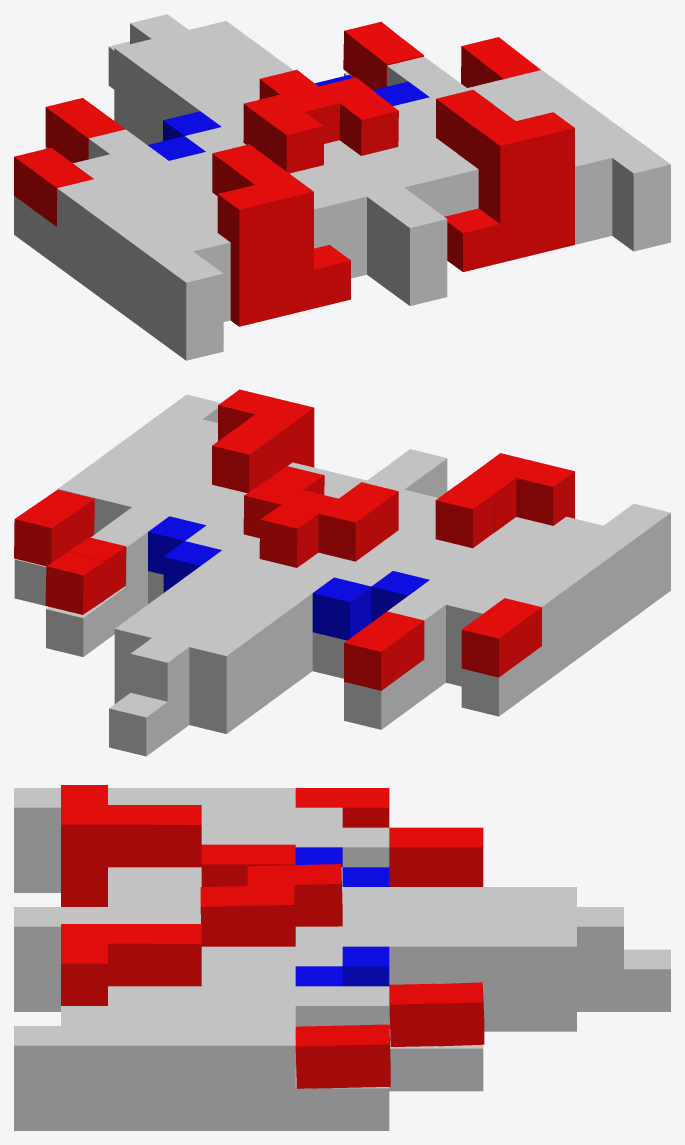
The model's file is Player.fbx.
The picture shows the model from 3 angles, top to bottom: view 1: azimuth 30°, elevation 25°; view 2: azimuth 150°, elevation 25°; view 3: azimuth 270°, elevation 25°; orthographic projection. The views are drawn at different scales.
Parts seen in each view (by area): view 1: Box196, Box219, Box242, Box244, Box178, Box232, Box233, Box129, Box101, Box046, Box123, Box088 (+97 smaller); view 2: Box117, Box246, Box147, Box001, Box244, Box113, Box144, Box238, Box110, Box142, Box240, Box115 (+103 smaller); view 3: Box150, Box115, Box110, Box173, Box174, Box175, Box240, Box246, Box238, Box116, Box146, Box112 (+90 smaller).
Part boxes in pixels (x1,y1,x2,y2): Box196: [388, 203, 447, 266]; Box219: [164, 258, 223, 321]; Box242: [478, 121, 537, 184]; Box244: [217, 185, 276, 248]; Box178: [612, 148, 670, 212]; Box232: [265, 110, 323, 173]; Box233: [339, 94, 398, 155]; Box129: [444, 208, 500, 271]; Box101: [164, 306, 223, 360]; Box046: [388, 251, 447, 305]; Box123: [478, 169, 537, 223]; Box088: [612, 197, 670, 251]; Box117: [461, 614, 520, 677]; Box246: [435, 484, 494, 548]; Box147: [130, 638, 189, 701]; Box001: [109, 692, 167, 756]; Box244: [516, 462, 574, 525]; Box113: [344, 627, 402, 690]; Box144: [189, 631, 247, 694]; Box238: [259, 505, 318, 567]; Box110: [45, 552, 104, 614]; Box142: [312, 577, 371, 640]; Box240: [212, 430, 270, 493]; Box115: [14, 504, 73, 566]; Box150: [483, 926, 530, 989]; Box115: [342, 1024, 390, 1087]; Box110: [435, 982, 484, 1046]; Box173: [248, 1026, 295, 1088]; Box174: [201, 1026, 248, 1088]; Box175: [154, 1026, 201, 1088]; Box240: [154, 924, 201, 986]; Box246: [154, 805, 201, 867]; Box238: [294, 864, 342, 926]; Box116: [295, 1025, 343, 1088]; Box146: [530, 926, 576, 989]; Box112: [389, 983, 437, 1046].
Bounding box in the file's own units: 130 × 30.1 × 140.
